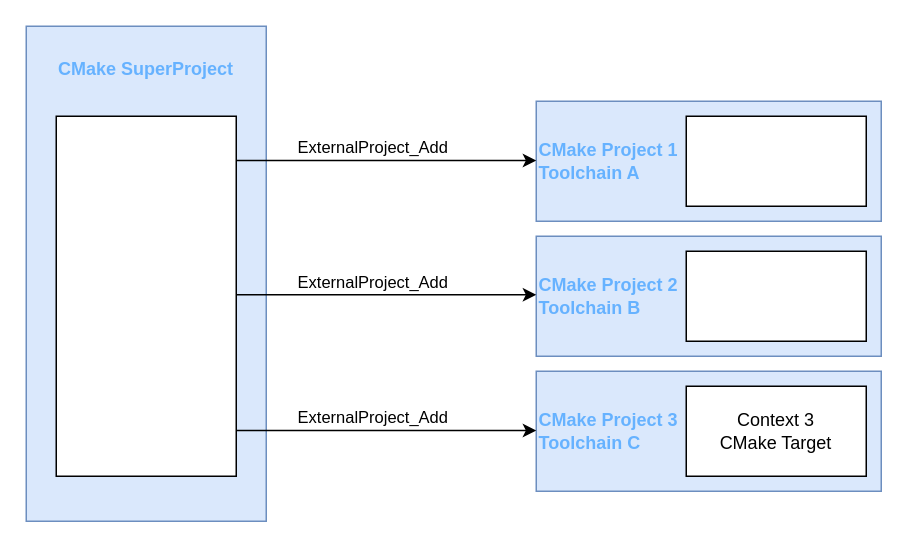
The diagram is 908 pixels wide and 548 high, and some of its shapes have lost their labels. The shapes that lost their labels are listed below. From the top down, each one's centre as x and y in pixels, then its label:
At (775,160): "Context 1 CMake Target".
At (145,295): "CMakeLists.txt".
At (775,295): "Context 2 CMake Target".
